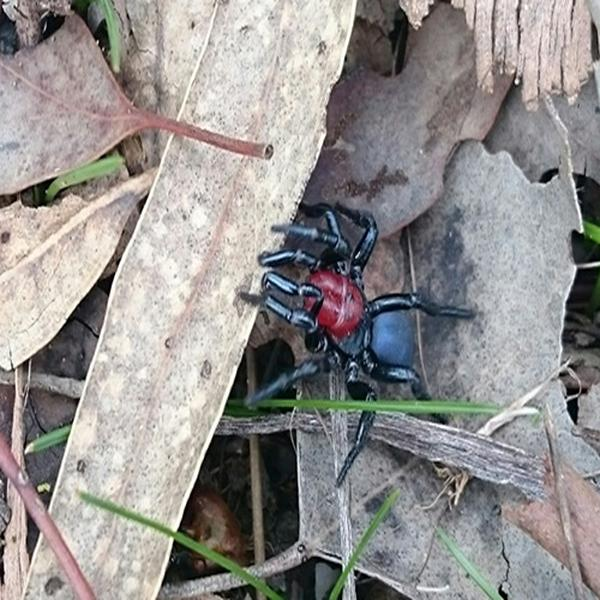Red Headed Mouse Spider: (242, 204, 468, 471)
